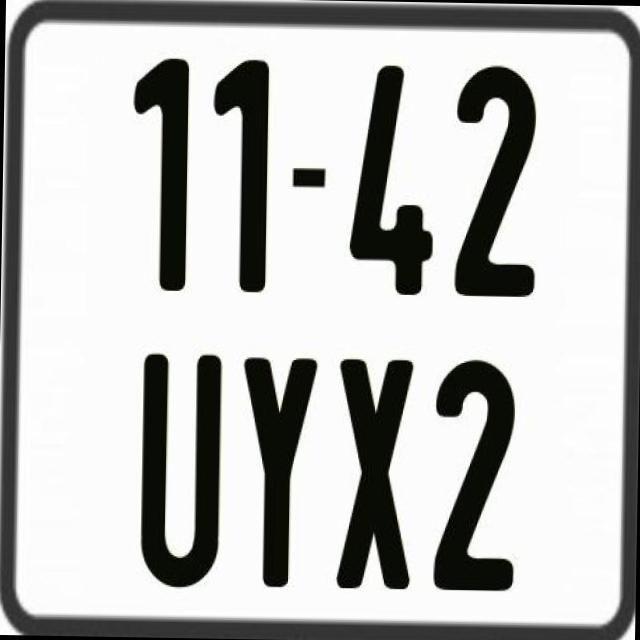1: (208, 58, 272, 294), (128, 54, 188, 289)
2: (430, 359, 520, 592), (451, 62, 535, 300)
4: (346, 60, 434, 298)
U: (140, 354, 226, 590)
X: (334, 357, 413, 597)
Y: (237, 352, 313, 588)
